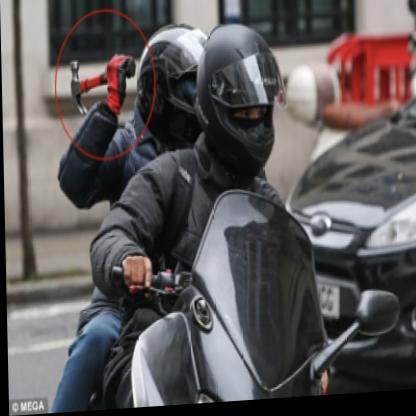With Helmet: (194, 16, 288, 180)
